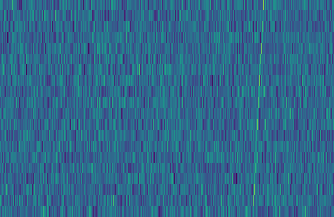signal: (249, 0, 270, 217)
